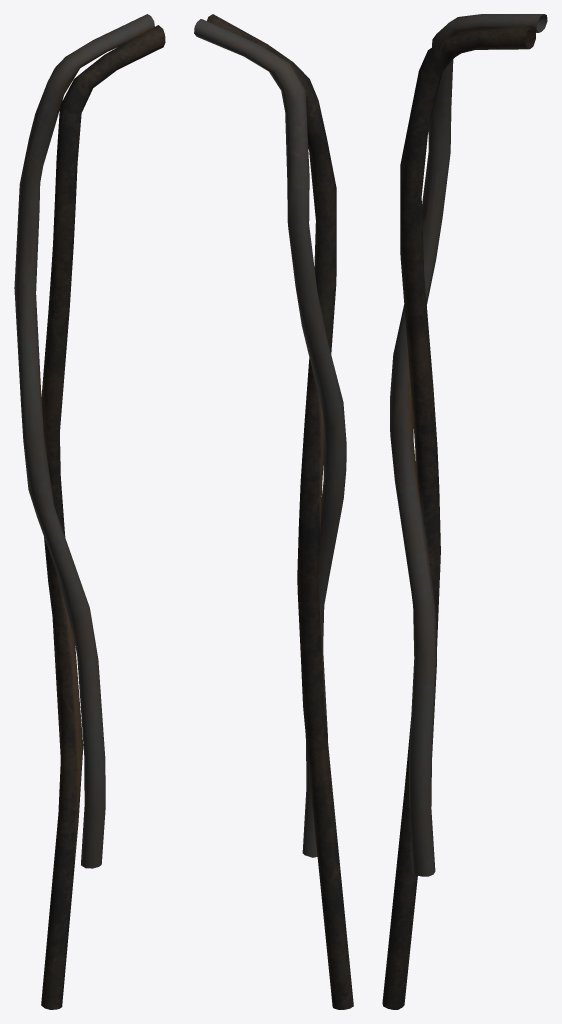
File: danglewires31_reference.003.fbx
3 views of the same model, side by side, from view 1: azimuth 30°, elevation 25°; view 2: azimuth 150°, elevation 25°; view 3: azimuth 330°, elevation 25° (orthographic). The views are drawn at different scales.
Parts seen in each view (by area): view 1: danglewires31_reference.003; view 2: danglewires31_reference.003; view 3: danglewires31_reference.003.
Boxes of the visible parts, box(x1,y1,x2,y2) form: danglewires31_reference.003: box(14, 14, 165, 1009); danglewires31_reference.003: box(194, 14, 353, 1009); danglewires31_reference.003: box(382, 14, 547, 1009).
Bounding box in the file's own units: 20.64 × 140 × 13.8.
